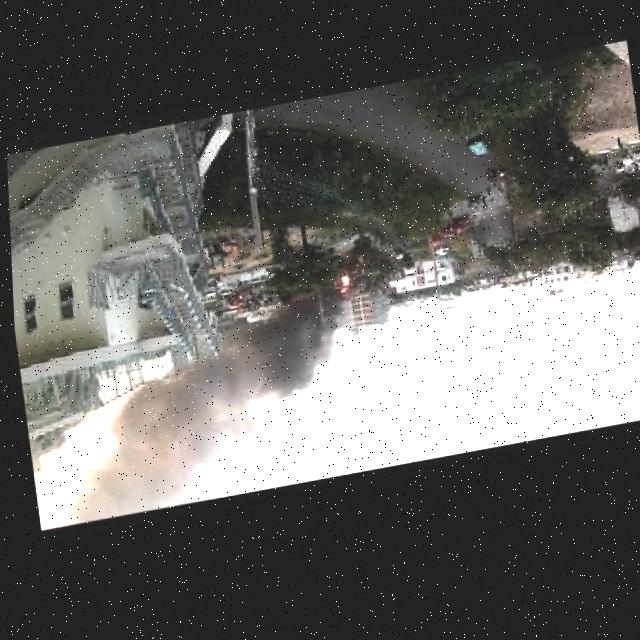Smoke: (324, 274, 355, 310)
